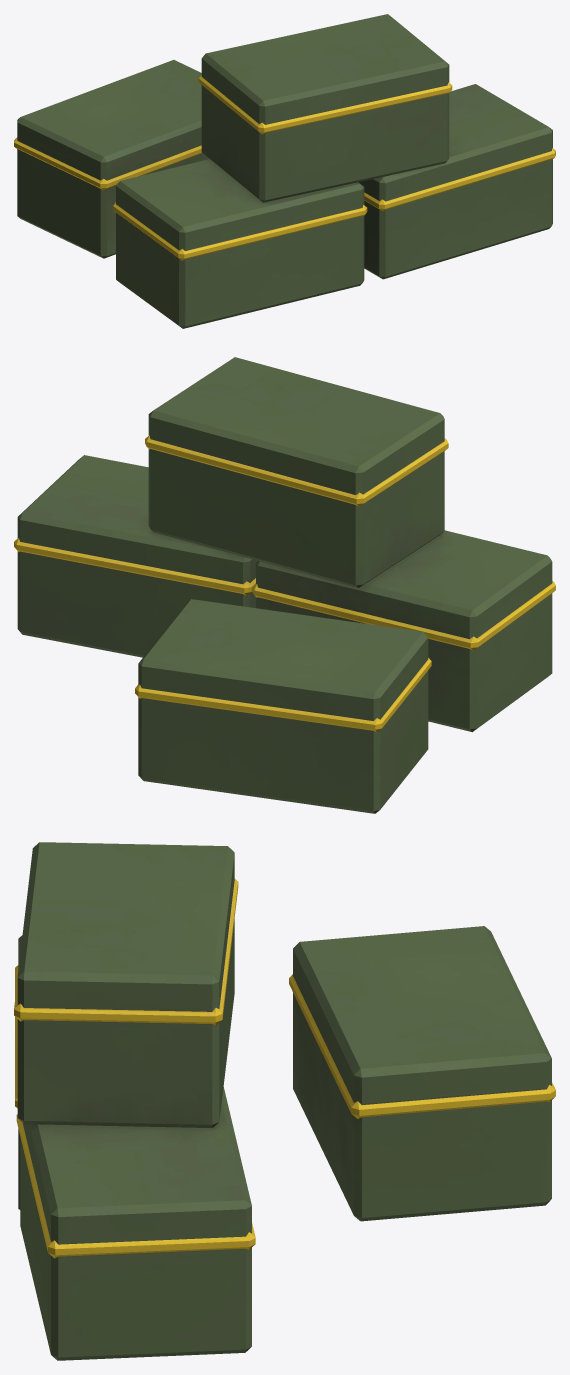
The model's file is lador_tex.glb.
3 views of the same model, one above another, from view 1: azimuth 30°, elevation 25°; view 2: azimuth 150°, elevation 25°; view 3: azimuth 270°, elevation 25° (orthographic). The views are drawn at different scales.
Parts seen in each view (by area): view 1: lador; view 2: lador; view 3: lador.
Boxes of the visible parts, box(x1,y1,x2,y2) form: lador: box(14, 14, 555, 328); lador: box(14, 357, 555, 813); lador: box(14, 842, 555, 1360).
Size of the model in its own units: 2.04 by 1 by 1.61.
Materials: 2 (2 with a texture image).
